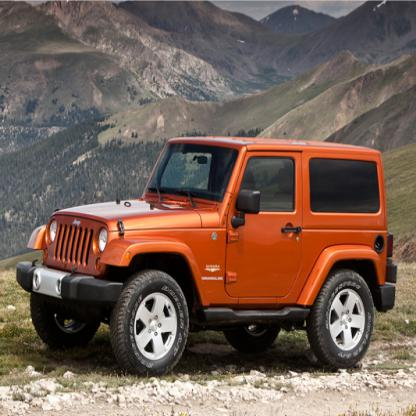Vehicle: (15, 135, 400, 374)
